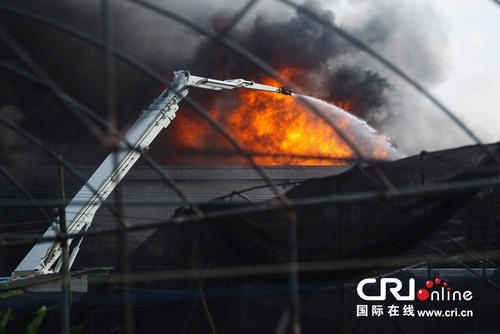fire: (231, 74, 354, 166), (173, 105, 225, 148)
